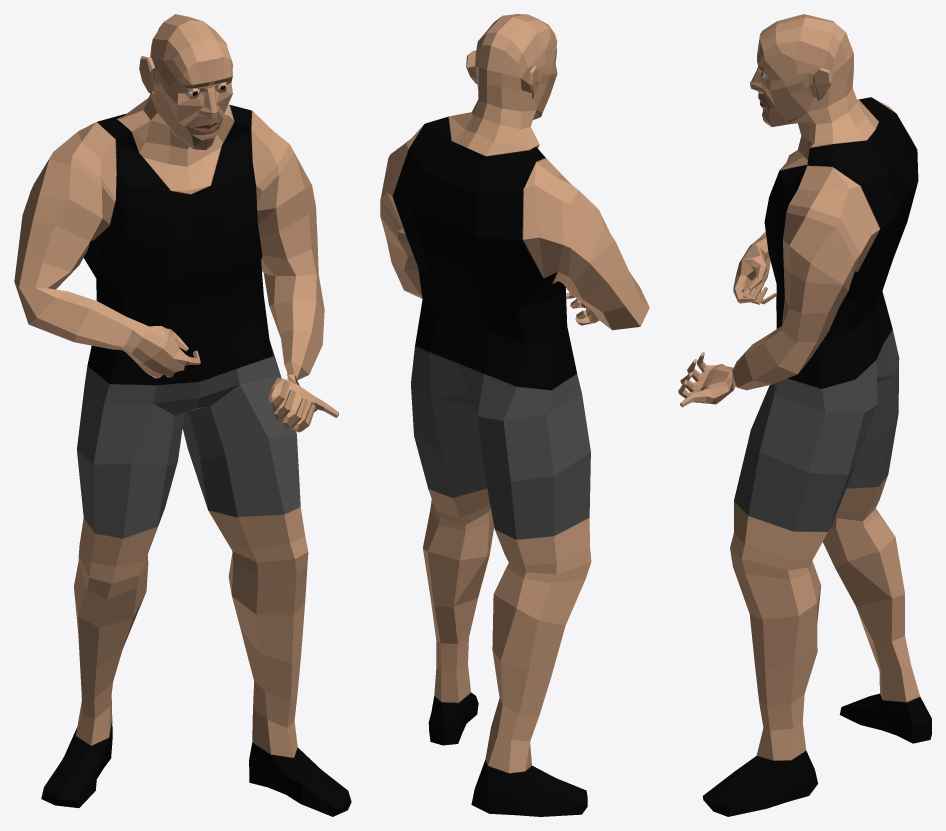
The model's file is PlayerIdle(50).obj.
3 renders of one model, left to right at view 1: azimuth 30°, elevation 25°; view 2: azimuth 150°, elevation 25°; view 3: azimuth 270°, elevation 25°, orthographic. The views are drawn at different scales.
Parts seen in each view (by area): view 1: Plane002; view 2: Plane002; view 3: Plane002.
Boxes of the visible parts, x1,y1,x2,y2 form: Plane002: (14, 14, 351, 816); Plane002: (380, 14, 649, 816); Plane002: (678, 14, 931, 816).
Size of the model in its own units: 673 by 1803 by 558.
